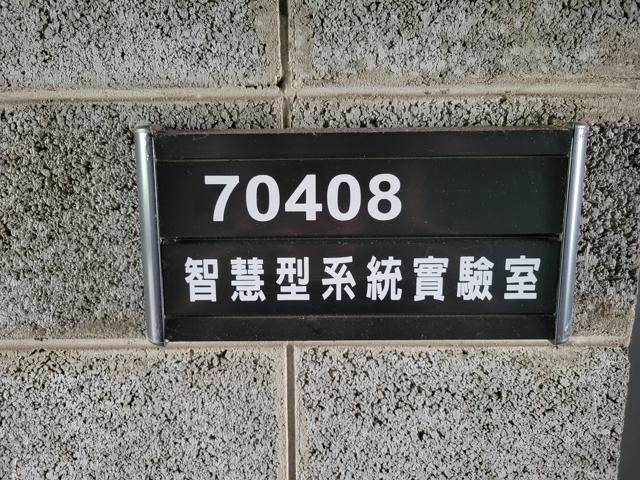doorplate: (125, 107, 597, 356)
